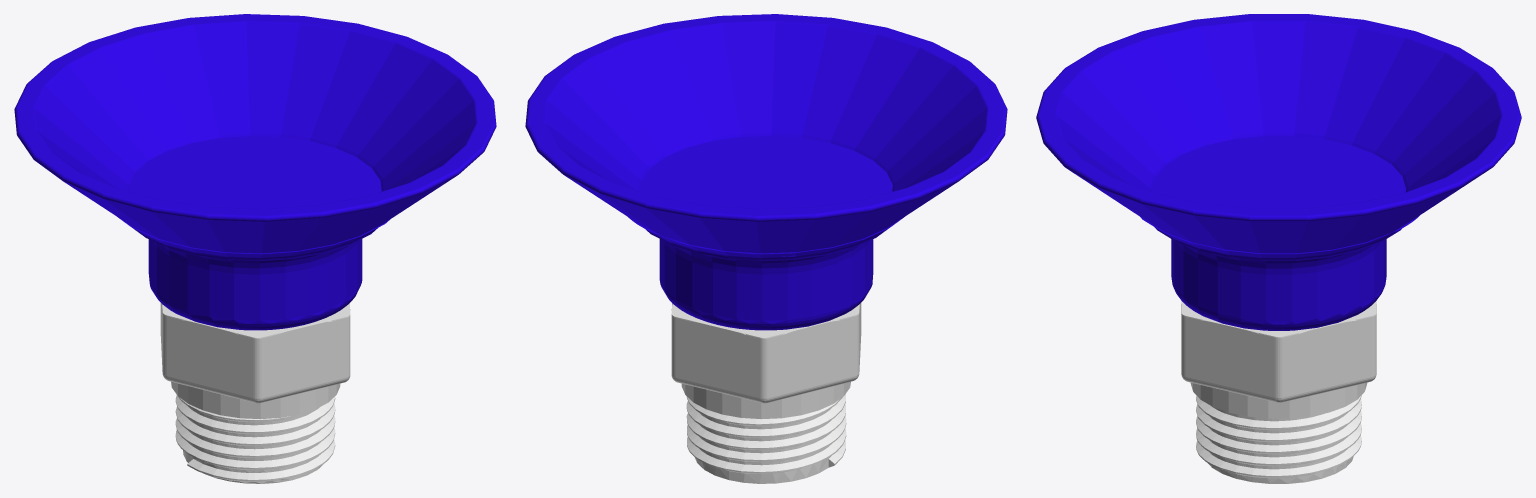
File: 27Suctioncup.fbx
3 views of the same model, side by side, from view 1: azimuth 30°, elevation 25°; view 2: azimuth 150°, elevation 25°; view 3: azimuth 270°, elevation 25° (orthographic).
Visible parts, largest first — view 1: FESTO VASB-30-0 1639796256.001; view 2: FESTO VASB-30-0 1639796256.001; view 3: FESTO VASB-30-0 1639796256.001.
Boxes of the visible parts, x1,y1,x2,y2 form: FESTO VASB-30-0 1639796256.001: (14,14,496,483); FESTO VASB-30-0 1639796256.001: (525,14,1007,483); FESTO VASB-30-0 1639796256.001: (1036,14,1521,483).
Bounding box in the file's own units: 58.2 × 45.17 × 58.63.
